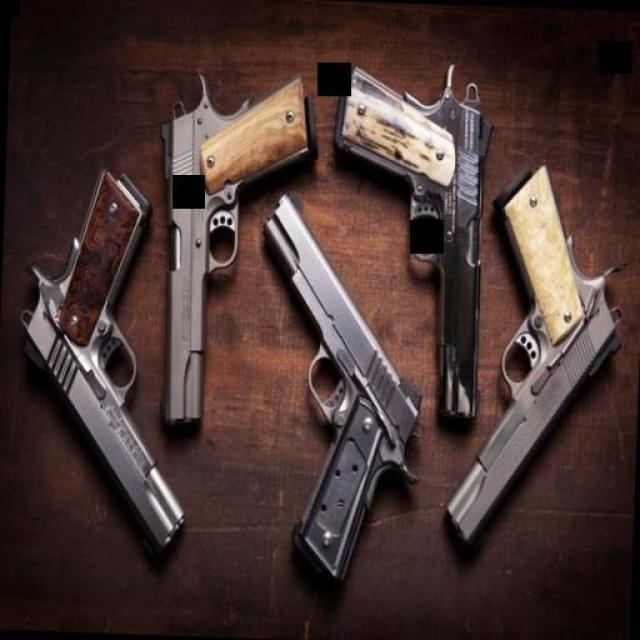gun: (440, 156, 626, 562), (10, 164, 196, 564), (250, 192, 431, 602), (148, 68, 318, 438), (326, 61, 492, 429)
